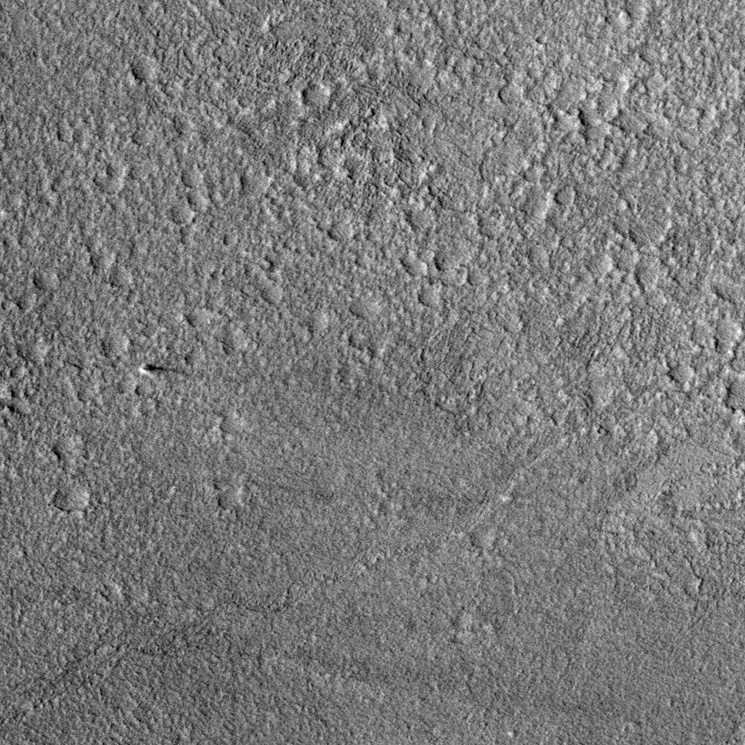dust_devil: (137, 362, 182, 380)
